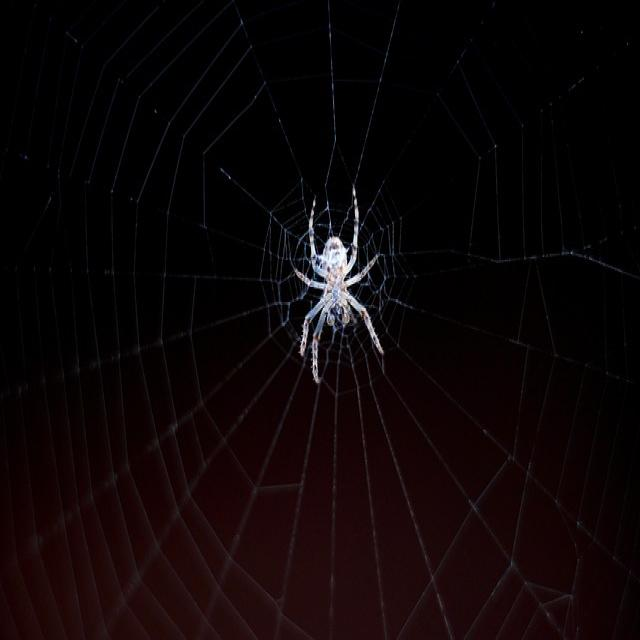spyder: (299, 167, 384, 385)
